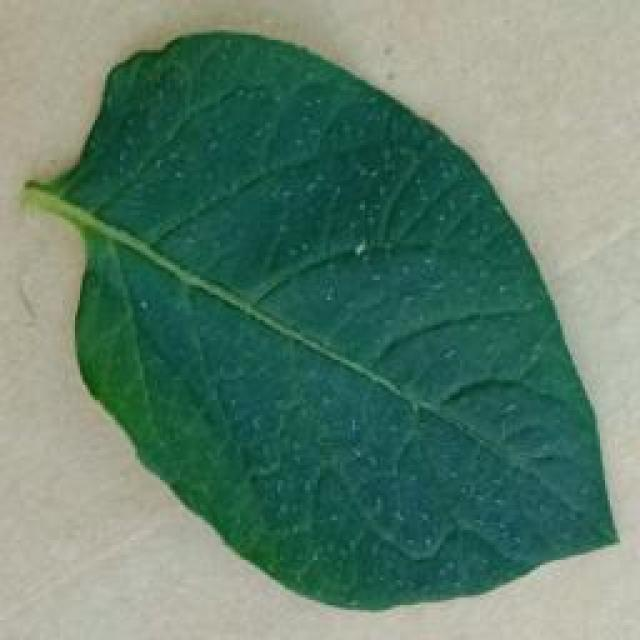Potato_Healthy: (21, 32, 610, 609)
